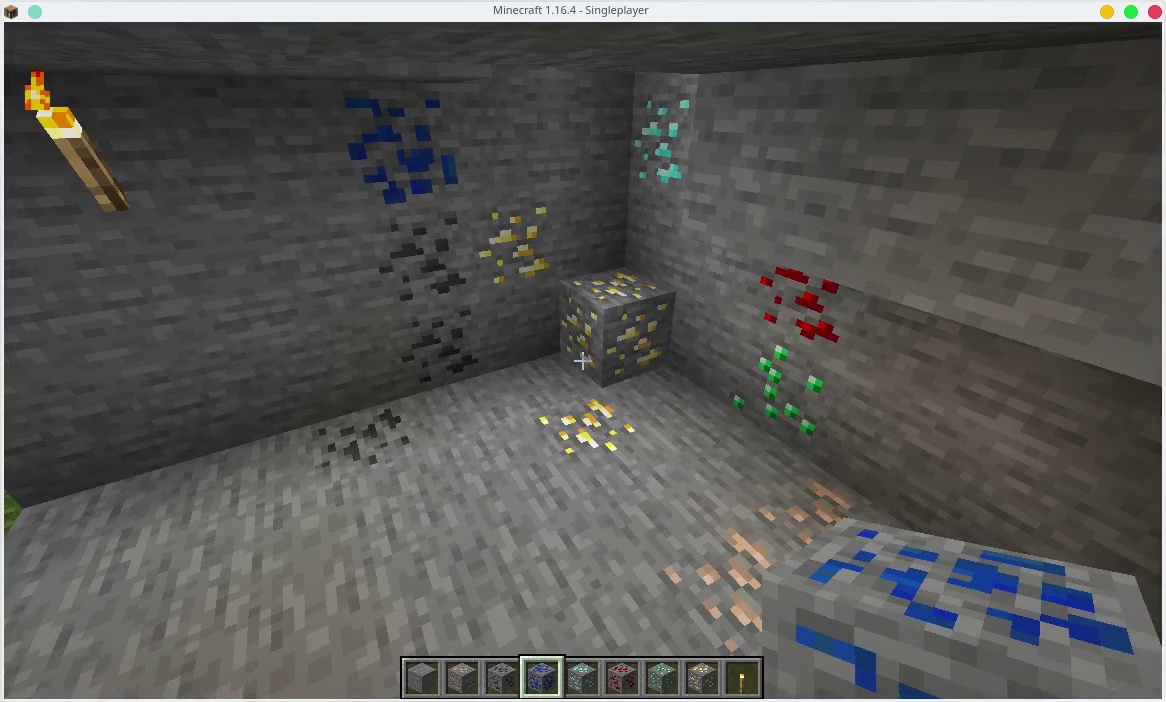gold: (563, 265, 675, 379), (541, 394, 633, 466), (474, 207, 556, 281), (686, 663, 720, 694)
